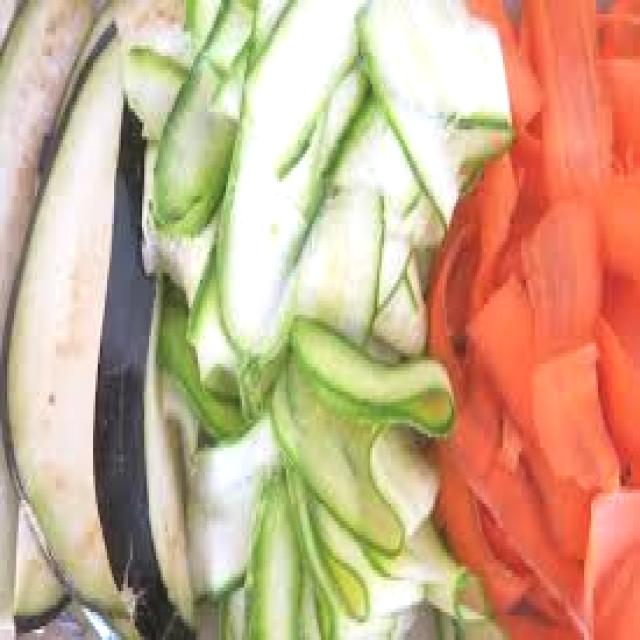wet: (35, 47, 597, 576)
